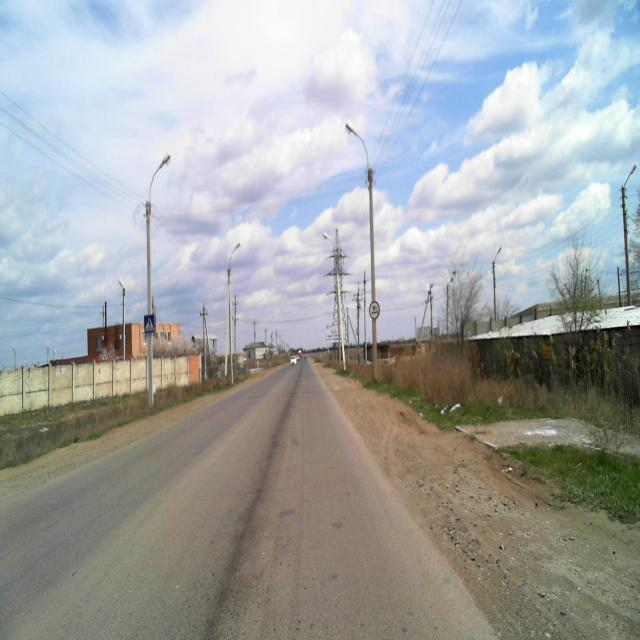road sign: (144, 315, 155, 334)
